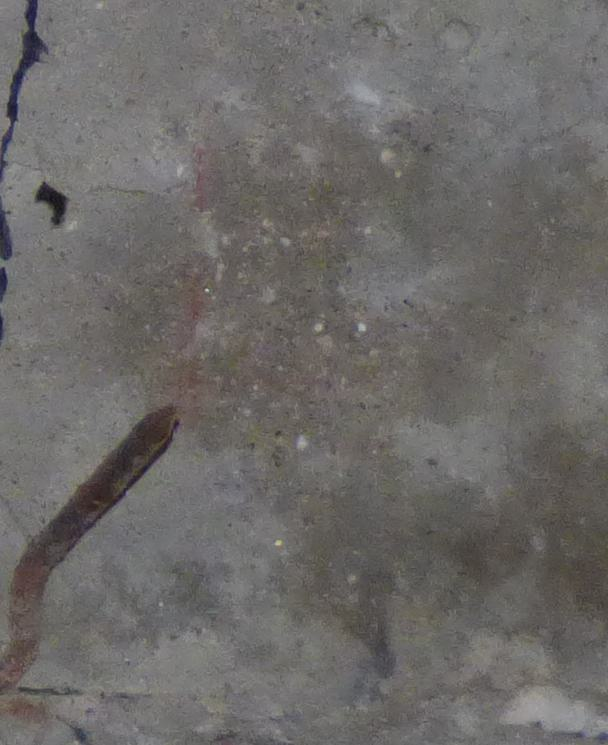Crack: (1, 1, 51, 181)
Exposed reinforcement: (1, 404, 179, 695)
Spalling: (34, 182, 68, 227), (1, 202, 12, 337)
